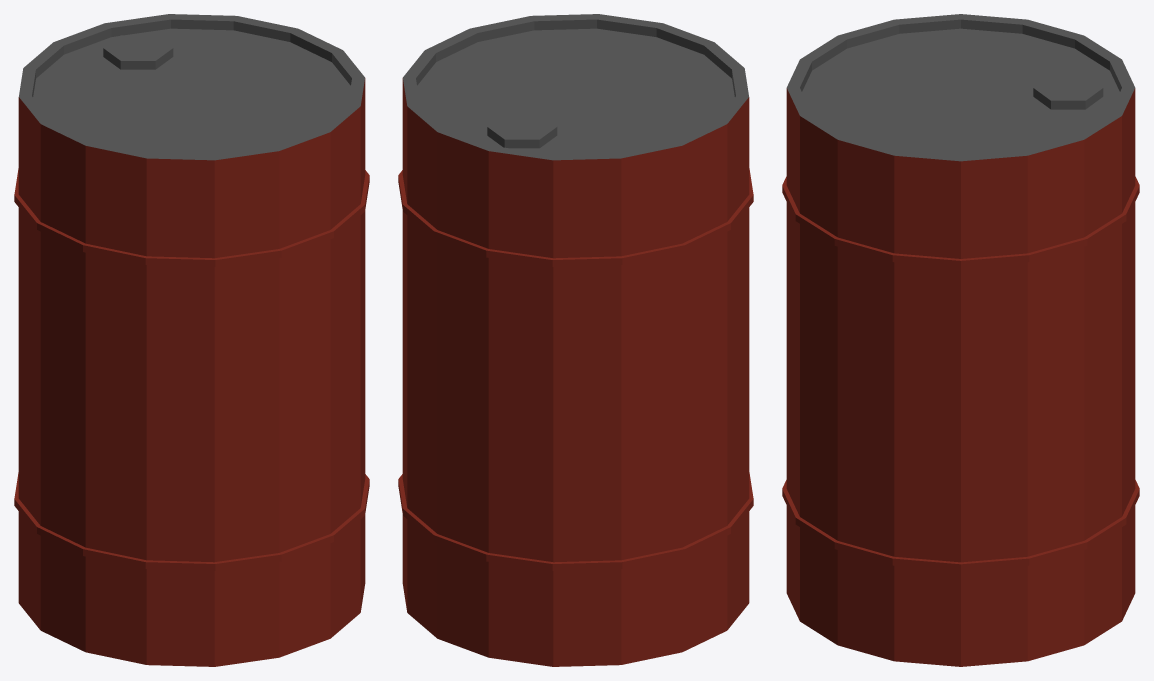
The model's file is metalBarrel.fbx.
3 renders of one model, left to right at view 1: azimuth 30°, elevation 25°; view 2: azimuth 150°, elevation 25°; view 3: azimuth 270°, elevation 25°, orthographic.
Visible parts, largest first — view 1: Cylinder; view 2: Cylinder; view 3: Cylinder.
Boxes of the visible parts, x1=… form: Cylinder: x1=14, y1=14, x2=369, y2=666; Cylinder: x1=398, y1=14, x2=753, y2=666; Cylinder: x1=782, y1=14, x2=1139, y2=666.
Size of the model in its own units: 51.28 by 80 by 51.28.
